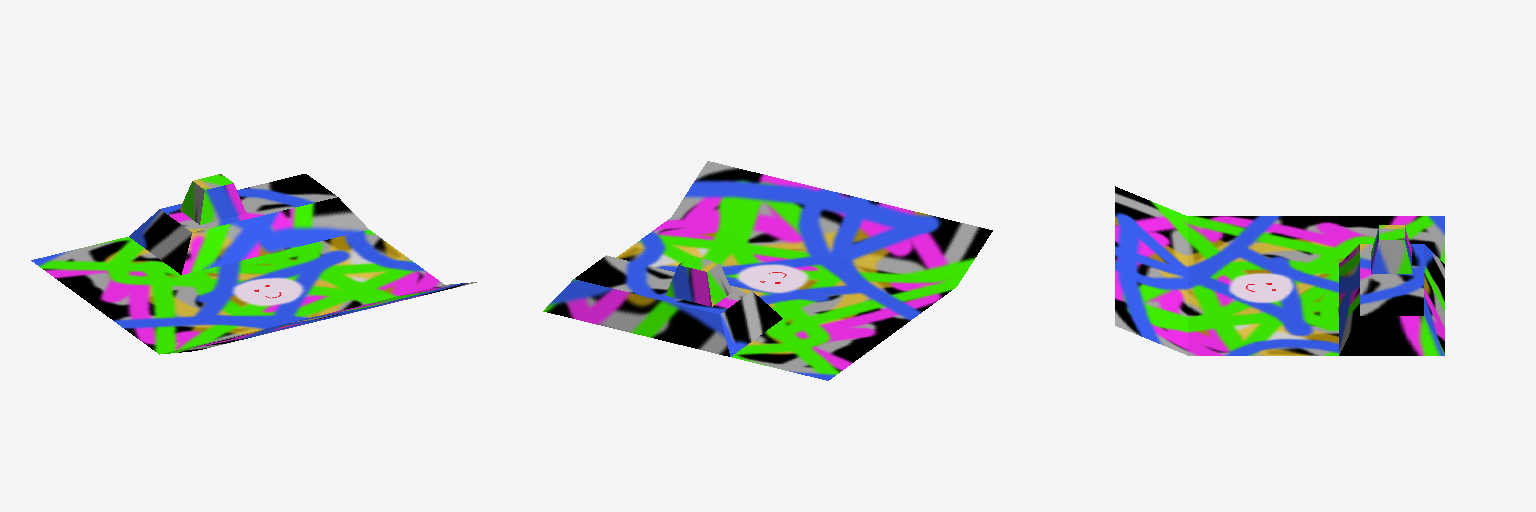
3 renders of one model, left to right at view 1: azimuth 30°, elevation 25°; view 2: azimuth 150°, elevation 25°; view 3: azimuth 270°, elevation 25°, orthographic.
Visible parts, largest first — view 1: Plane; view 2: Plane; view 3: Plane.
Boxes of the visible parts, x1,y1,x2,y2 form: Plane: [31, 174, 476, 354]; Plane: [543, 161, 992, 380]; Plane: [1115, 186, 1444, 355].
Bounding box in the file's own units: 10 × 2 × 10.
Materials: 1 (1 with a texture image).